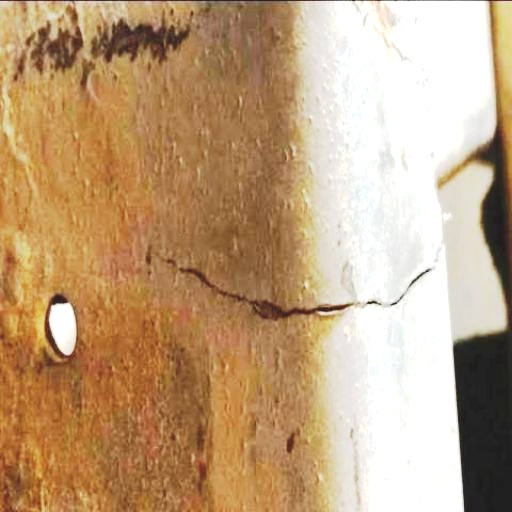crack: (158, 244, 447, 332)
